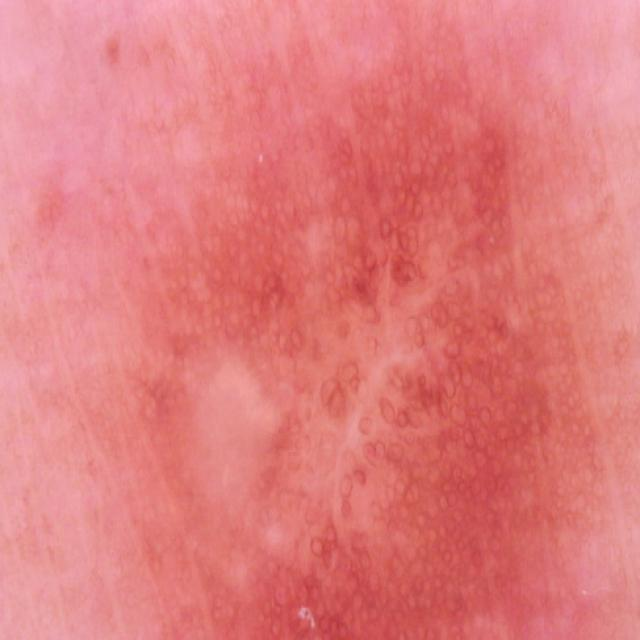Dermatofibroma: (117, 81, 625, 640)
